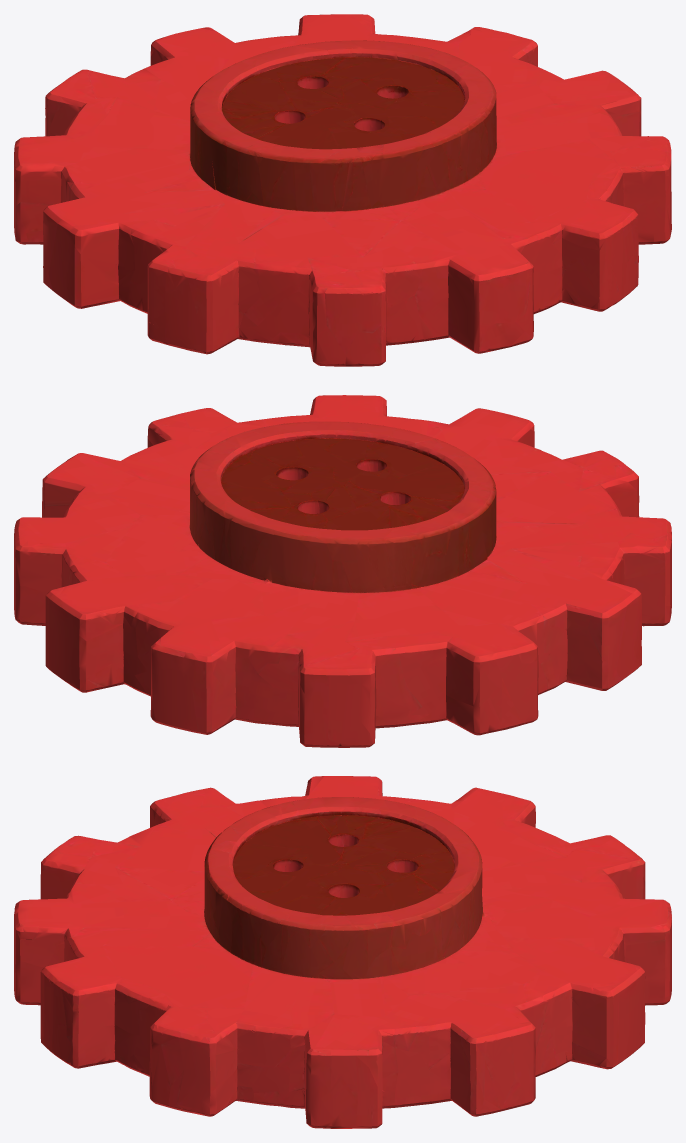
Rendered from gearcog.glb.
The picture shows the model from 3 angles, top to bottom: view 1: azimuth 30°, elevation 25°; view 2: azimuth 150°, elevation 25°; view 3: azimuth 270°, elevation 25°; orthographic projection.
Size of the model in its own units: 1.9 by 0.4214 by 1.9.
1 material, 1 textured.
